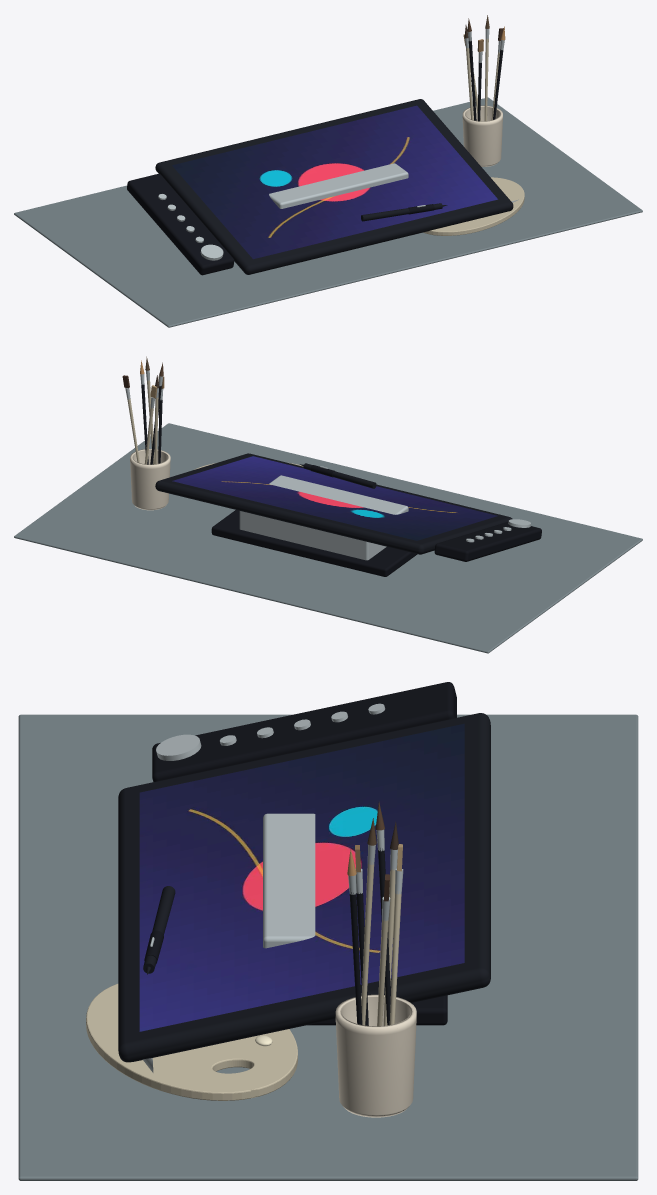
File: atelier-artist-set-tablet-chalk.glb
The picture shows the model from 3 angles, top to bottom: view 1: azimuth 30°, elevation 25°; view 2: azimuth 150°, elevation 25°; view 3: azimuth 270°, elevation 25°; orthographic projection. The views are drawn at different scales.
Bounding box in the file's own units: 0.92 × 0.277 × 0.52.
Materials: 20 (1 with a texture image).
